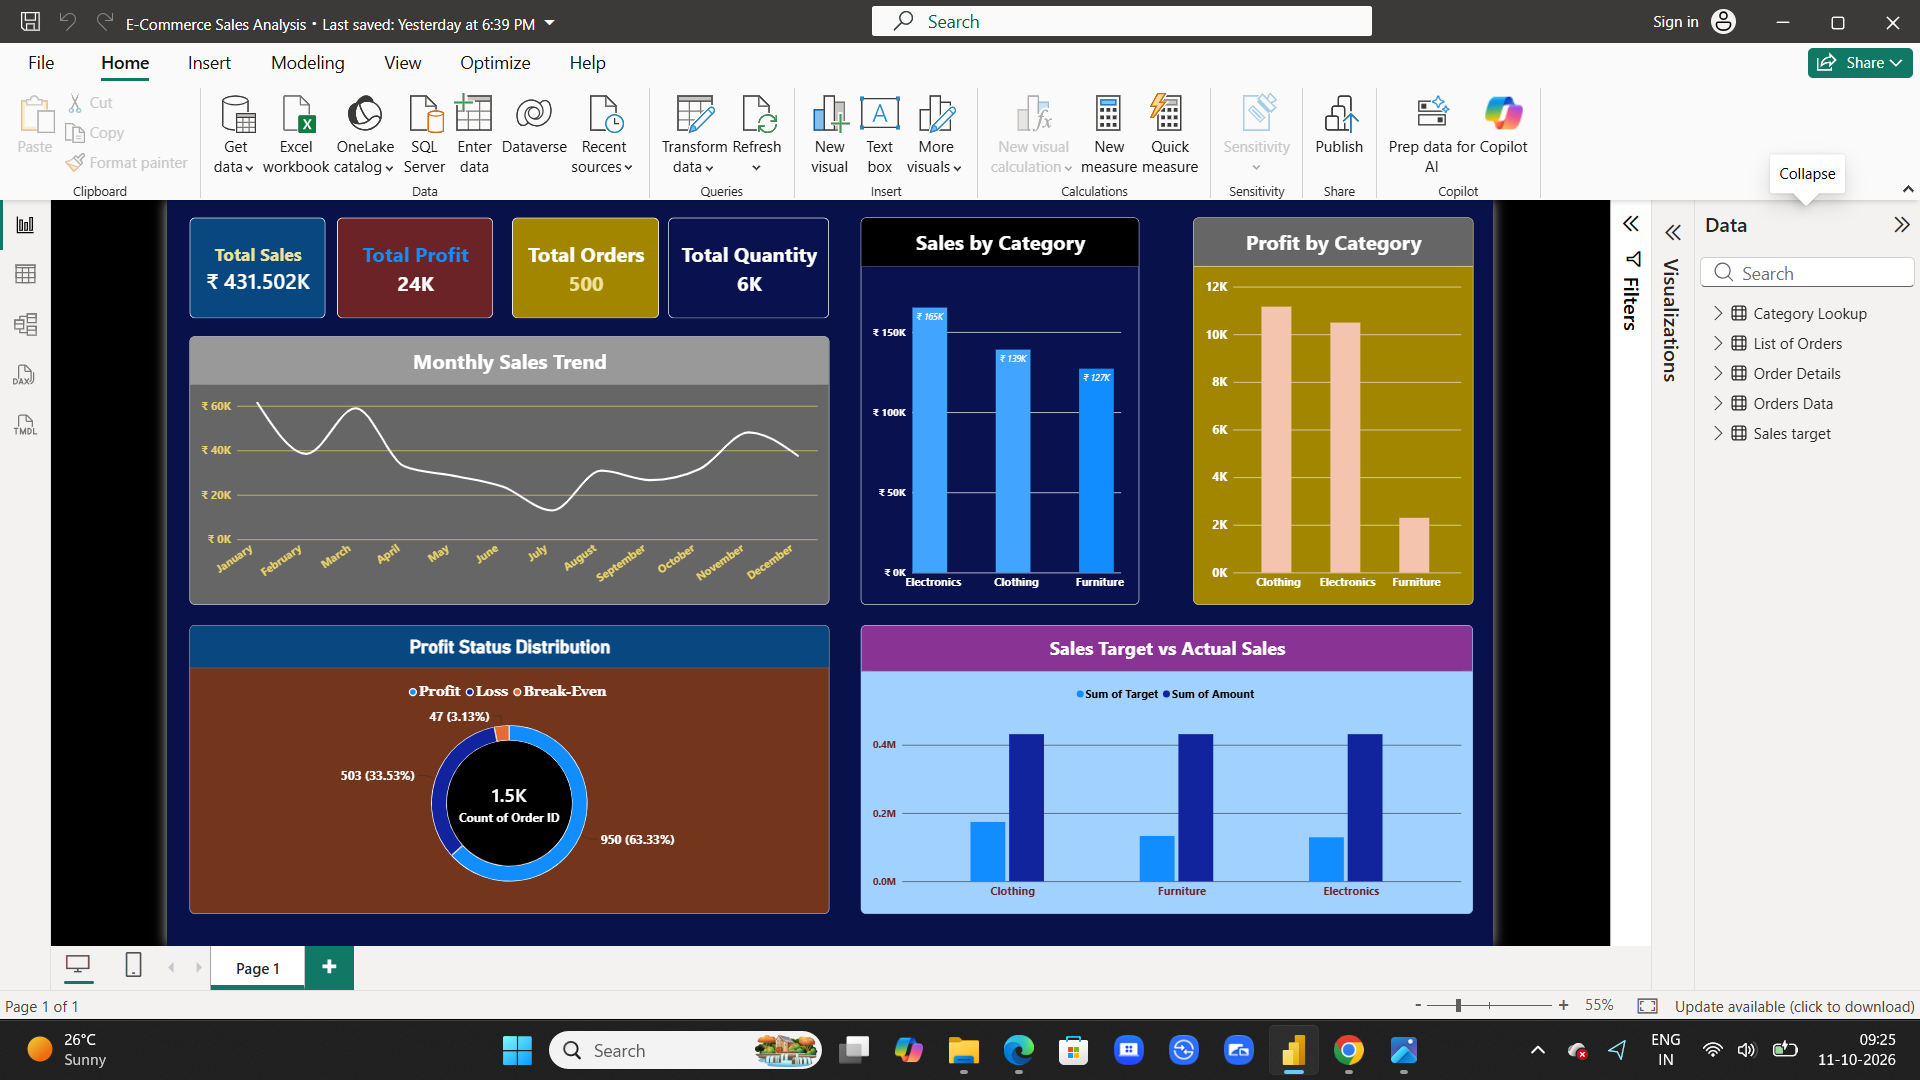

The dashboard page shown, as its layout file describes it:
{"tool":"powerbi","page":{"name":"Page 1","canvas":[1920,1080],"ordinal":0},"visuals":[{"type":"cardVisual","fields":{"Data":["Orders Data.Total Sales"]},"box":[32.6,25.3,197.3,146.6],"z":0},{"type":"cardVisual","fields":{"Data":["Orders Data.Total Profit"]},"box":[246.1,25.3,226.2,146.6],"z":1},{"type":"cardVisual","fields":{"Data":["Category Lookup.Total Orders"]},"box":[499.5,25.3,213.5,146.6],"z":2},{"type":"cardVisual","fields":{"Data":["Category Lookup.Total Quantity"]},"box":[725.7,25.3,233.4,146.6],"z":3},{"type":"clusteredColumnChart","title":"Sales by Category","fields":{"Category":["Orders Data.Category"],"Y":["Sum(Orders Data.Amount)"]},"box":[1004.4,25.3,403.6,561],"z":4},{"type":"clusteredColumnChart","title":"Profit by Category","fields":{"Category":["Orders Data.Category"],"Y":["Sum(Orders Data.Profit)"]},"box":[1485.7,25.3,405.4,561],"z":5},{"type":"lineChart","title":"Monthly Sales Trend","fields":{"Category":["Orders Data.Order Date.Variation.Date Hierarchy.Month"],"Y":["Sum(Orders Data.Amount)"]},"box":[32.6,197.3,926.5,389.1],"z":6},{"type":"donutChart","title":"Profit Status Distribution","fields":{"Category":["Orders Data.Profit Status"],"Y":["CountNonNull(Orders Data.Order ID)"]},"box":[32.6,615.3,926.5,418],"z":7},{"type":"clusteredColumnChart","title":"Sales Target vs Actual Sales","fields":{"Category":["Sales target.Category"],"Y":["Sum(Sales target.Target)","Sum(Orders Data.Amount)"]},"box":[1004.4,615.3,886.7,418],"z":8}]}

Visuals, with their boxes on the page's 1920x1080 design canvas (x1, y1, x2, y2). These are canvas units, not pixel positions in the 1920x1080 screenshot, which may show the page scaled, cropped or inside an application window:
cardVisual - Orders Data.Total Sales: detection(33, 25, 230, 172)
cardVisual - Orders Data.Total Profit: detection(246, 25, 472, 172)
cardVisual - Category Lookup.Total Orders: detection(500, 25, 713, 172)
cardVisual - Category Lookup.Total Quantity: detection(726, 25, 959, 172)
"Sales by Category" clusteredColumnChart: detection(1004, 25, 1408, 586)
"Profit by Category" clusteredColumnChart: detection(1486, 25, 1891, 586)
"Monthly Sales Trend" lineChart: detection(33, 197, 959, 586)
"Profit Status Distribution" donutChart: detection(33, 615, 959, 1033)
"Sales Target vs Actual Sales" clusteredColumnChart: detection(1004, 615, 1891, 1033)
